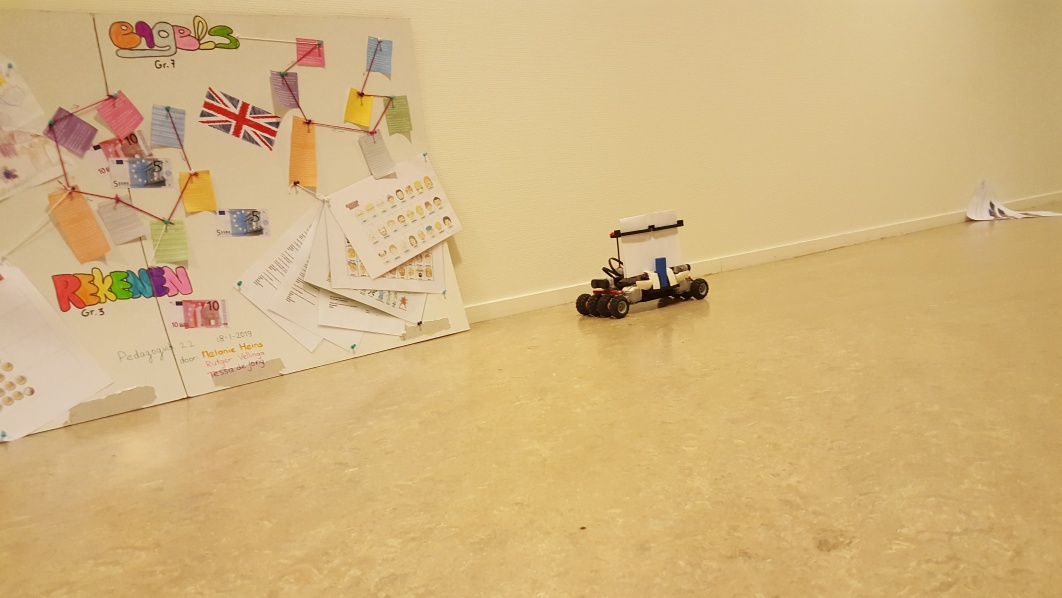beam: (653, 255, 671, 289)
